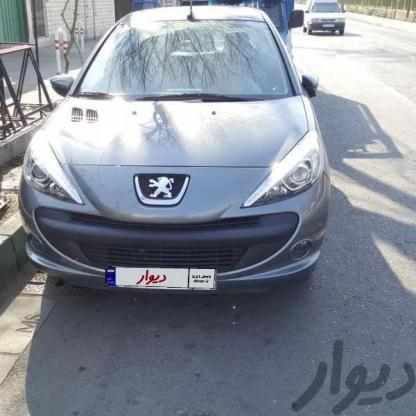Car: (22, 0, 339, 323), (116, 0, 301, 62), (302, 0, 374, 40)
